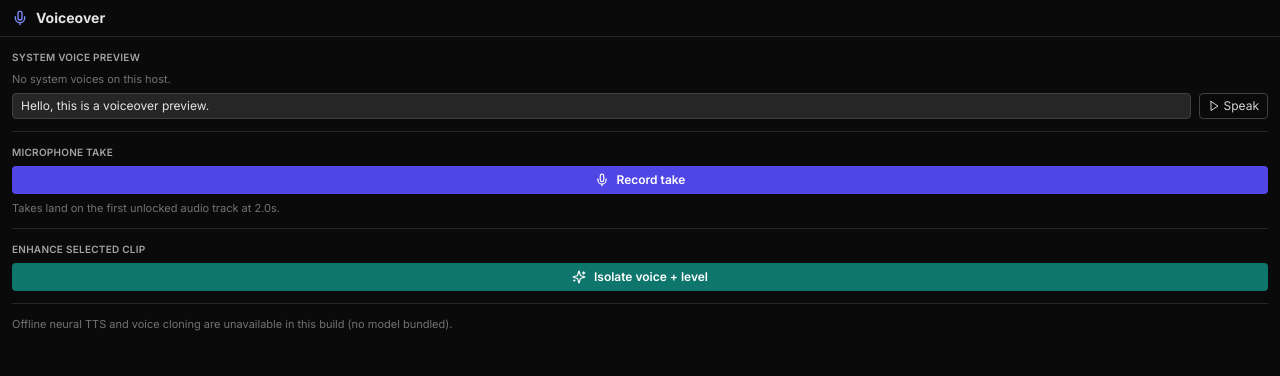
Test: R25.3 — VoiceoverPanel › records a take, places it on the audio track, and enhances it
Click the button "Record take".
click(640, 180)  # box [12,166,1268,194]
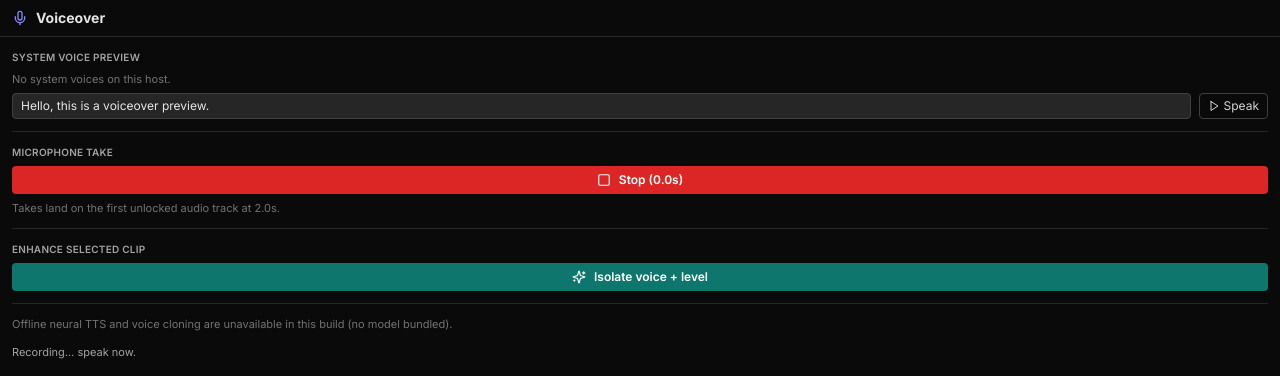
Now the text "Stop (0.0s)" is shown, box [619,172,683,188]
Click the button "Stop (0.0s)".
click(640, 180)  # box [12,166,1268,194]
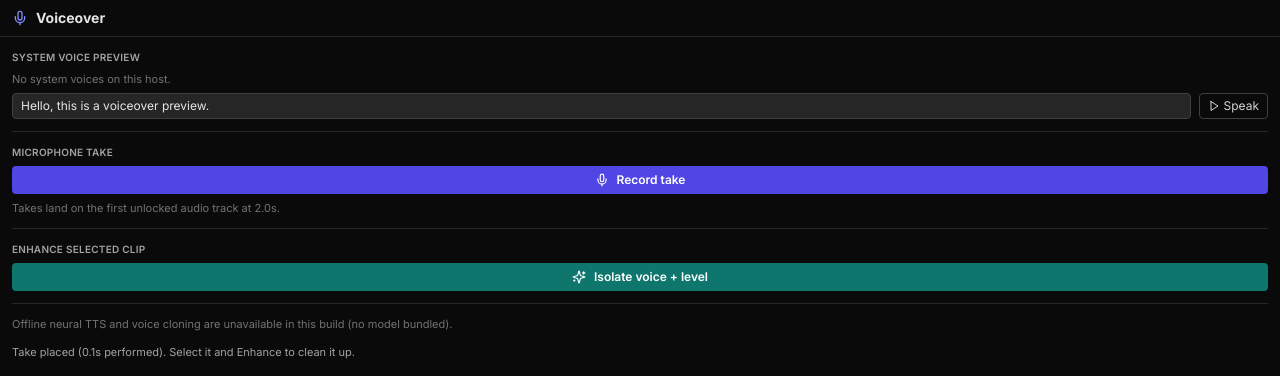
Now the text "Take placed" is shown, box [12,345,355,359]
Click the button "Isolate voice + level".
click(640, 277)  # box [12,263,1268,291]
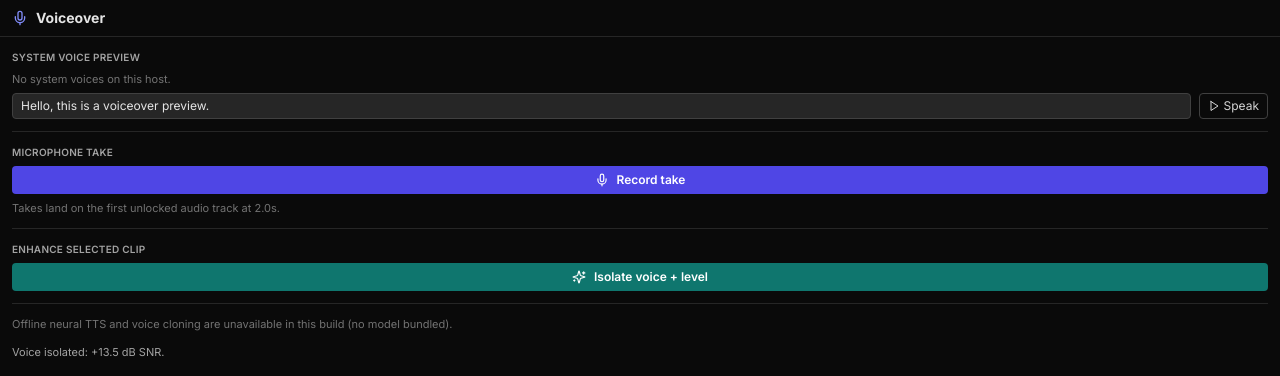
Now the text "Voice isolated: +13.5 dB SNR." is shown, box [12,345,164,359]
